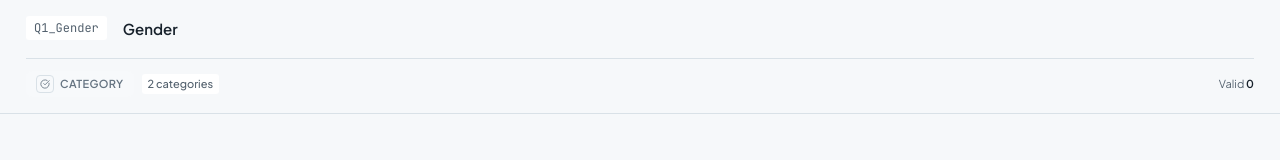
Test case: InspectorHeader › exits edit mode without saving on Escape
This screenshot has width=1280, height=160.
Click the button "Gender" at coordinates (150, 28), box [123,19,178,38]
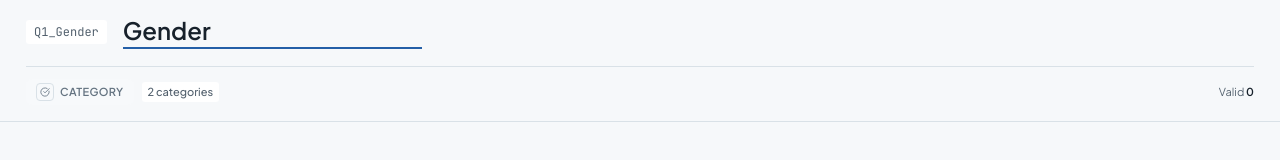
Replace the text in the field with "Changed" at coordinates (272, 32), box [123,16,422,49]
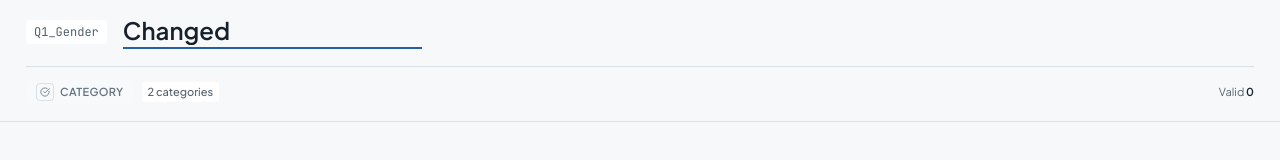
Press Escape in the field, box [123,16,422,49]
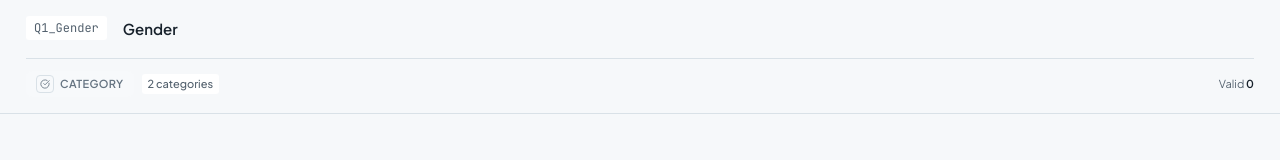
expect the heading "Gender" is shown: met, box [123,18,178,39]
